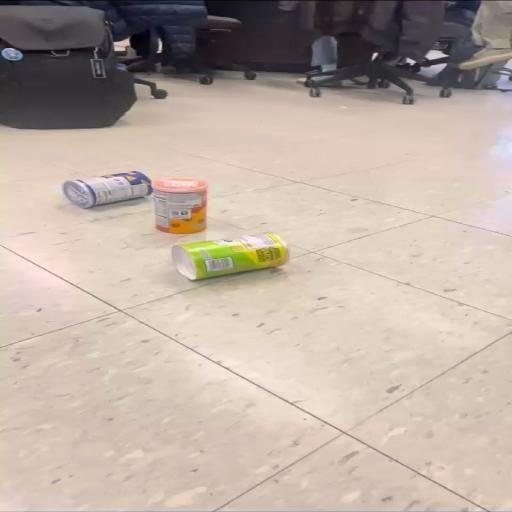pringles: (172, 233, 289, 279), (62, 171, 152, 208), (153, 178, 207, 233)
